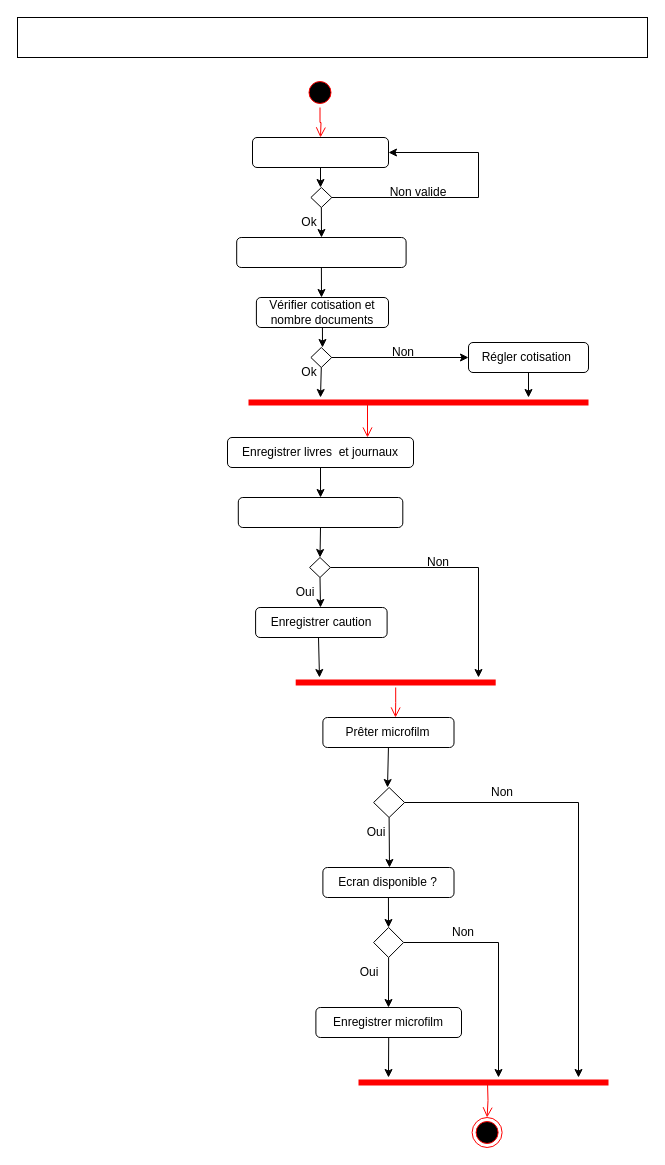
Some shapes in this 665 by 1165 pixel diagram are drawn without their labels. Each missing label, with the centre of its shape:
Diagramme d'Activité - au prêt d'un document: the point at 332,37
Enregistrer CD-ROM: the point at 320,512
Enregistrer numéro carte: the point at 321,252
Entrer numéro lecteur: the point at 320,152
